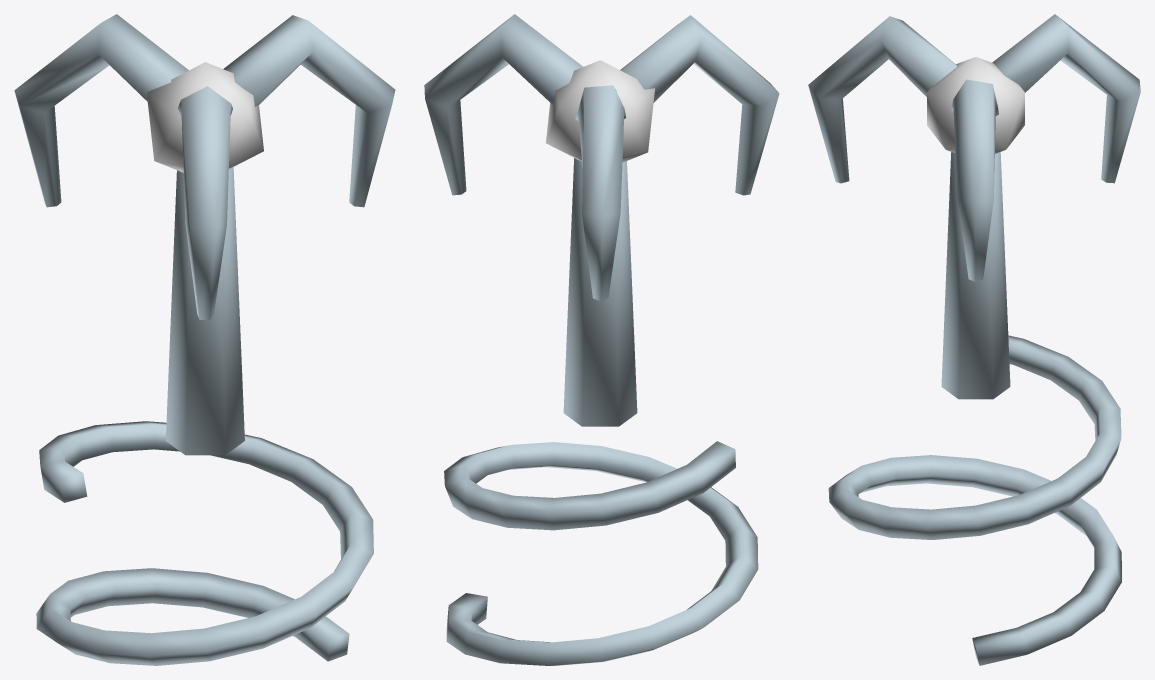
The model's file is diamond_hook.glb.
3 renders of one model, left to right at view 1: azimuth 30°, elevation 25°; view 2: azimuth 150°, elevation 25°; view 3: azimuth 270°, elevation 25°, orthographic. The views are drawn at different scales.
Visible parts, largest first — view 1: diamond_hook_v0; view 2: diamond_hook_v0; view 3: diamond_hook_v0.
Boxes of the visible parts, x1,y1,x2,y2 form: diamond_hook_v0: (14, 14, 395, 665); diamond_hook_v0: (424, 14, 779, 665); diamond_hook_v0: (808, 14, 1140, 665).
Bounding box in the file's own units: 0.1774 × 0.3275 × 0.1736.
